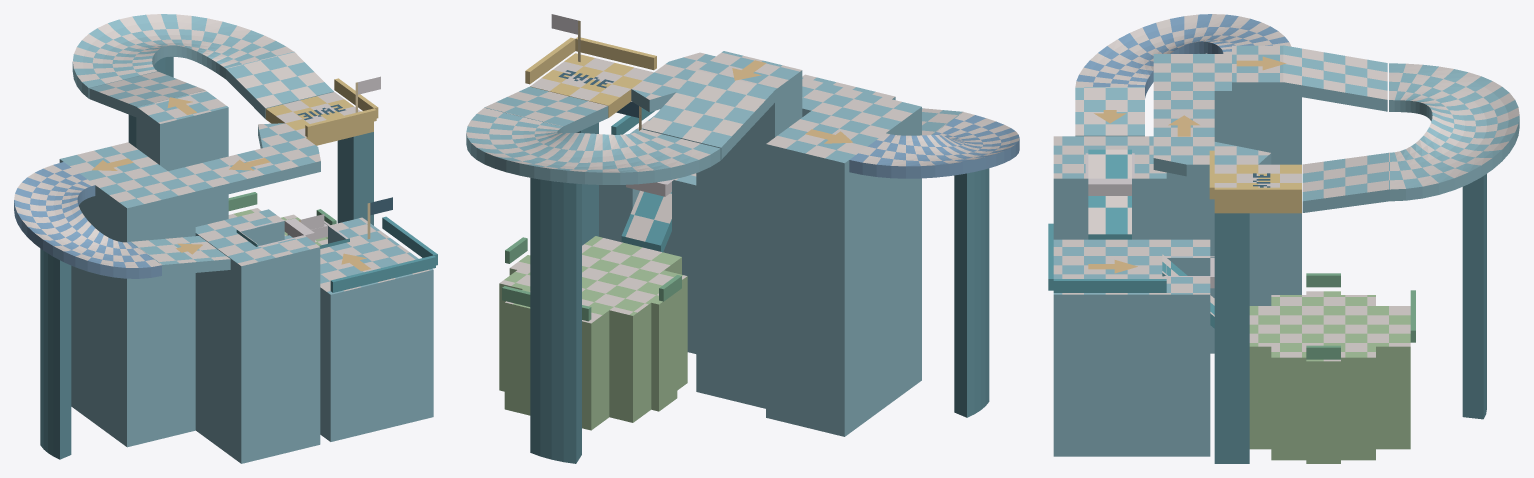
Rendered from level2-desktop.glb.
3 views of the same model, side by side, from view 1: azimuth 30°, elevation 25°; view 2: azimuth 150°, elevation 25°; view 3: azimuth 270°, elevation 25° (orthographic). The views are drawn at different scales.
Parts seen in each view (by area): view 1: 西侧转向塔台 · 实体台柱, 下层中继台 · 实体台柱, 第一孔口背台 · 实体台柱, 纵向宽回头弯, 第一孔口北墙 · 实体台柱, 横向反向小弯, 小弯承柱, 绕柱折返连接, 西侧转向塔台, 起点塔台 · 实体台柱, 下层中继台, 出弯下坡 (+14 smaller); view 2: 西侧转向塔台 · 实体台柱, 起点塔台 · 实体台柱, 宽弯承柱, 绿色终点 · 实体塔柱, 纵向宽回头弯, 小弯承柱, 绿色终点台面, 横向反向小弯, 西侧转向塔台, 入口缓坡, 金色存档台, 出弯下坡 (+10 smaller); view 3: 下层中继台 · 实体台柱, 绿色终点 · 实体塔柱, 纵向宽回头弯, 绿色终点台面, 存档台偏置支柱, 横向反向小弯, 第二孔口右墙 · 实体台柱, 西侧转向塔台 · 实体台柱, 起点塔台 · 实体台柱, 宽弯承柱, 绕柱折返连接, 下层中继台 (+19 smaller).
Part boxes in pixels (left/top/right/bottom): 西侧转向塔台 · 实体台柱: left=71, top=196, right=195, bottom=447; 下层中继台 · 实体台柱: left=320, top=280, right=433, bottom=441; 第一孔口背台 · 实体台柱: left=195, top=269, right=275, bottom=463; 纵向宽回头弯: left=72, top=14, right=293, bottom=98; 第一孔口北墙 · 实体台柱: left=275, top=258, right=320, bottom=455; 横向反向小弯: left=14, top=162, right=161, bottom=278; 小弯承柱: left=40, top=248, right=71, bottom=459; 绕柱折返连接: left=168, top=123, right=320, bottom=202; 西侧转向塔台: left=59, top=142, right=195, bottom=218; 起点塔台 · 实体台柱: left=136, top=118, right=228, bottom=226; 下层中继台: left=320, top=232, right=433, bottom=305; 出弯下坡: left=226, top=51, right=333, bottom=118; 西侧转向塔台 · 实体台柱: left=766, top=119, right=921, bottom=436; 起点塔台 · 实体台柱: left=696, top=83, right=802, bottom=408; 宽弯承柱: left=530, top=178, right=581, bottom=463; 绿色终点 · 实体塔柱: left=499, top=270, right=687, bottom=430; 纵向宽回头弯: left=466, top=107, right=720, bottom=184; 小弯承柱: left=954, top=168, right=989, bottom=417; 绿色终点台面: left=499, top=236, right=687, bottom=335; 横向反向小弯: left=849, top=112, right=1019, bottom=178; 西侧转向塔台: left=766, top=87, right=921, bottom=175; 入口缓坡: left=642, top=70, right=775, bottom=159; 金色存档台: left=530, top=53, right=653, bottom=117; 出弯下坡: left=484, top=86, right=608, bottom=132; 下层中继台 · 实体台柱: left=1053, top=306, right=1166, bottom=456; 绿色终点 · 实体塔柱: left=1249, top=358, right=1410, bottom=463; 纵向宽回头弯: left=1389, top=63, right=1519, bottom=201; 绿色终点台面: left=1249, top=291, right=1410, bottom=373; 存档台偏置支柱: left=1214, top=213, right=1249, bottom=463; 横向反向小弯: left=1075, top=14, right=1291, bottom=97; 第二孔口右墙 · 实体台柱: left=1166, top=306, right=1210, bottom=456; 西侧转向塔台 · 实体台柱: left=1166, top=102, right=1301, bottom=353; 起点塔台 · 实体台柱: left=1232, top=94, right=1284, bottom=305; 宽弯承柱: left=1462, top=174, right=1486, bottom=419; 绕柱折返连接: left=1153, top=91, right=1271, bottom=176; 下层中继台: left=1053, top=239, right=1166, bottom=306.
Size of the model in its own units: 10.9 by 7.81 by 10.82.
